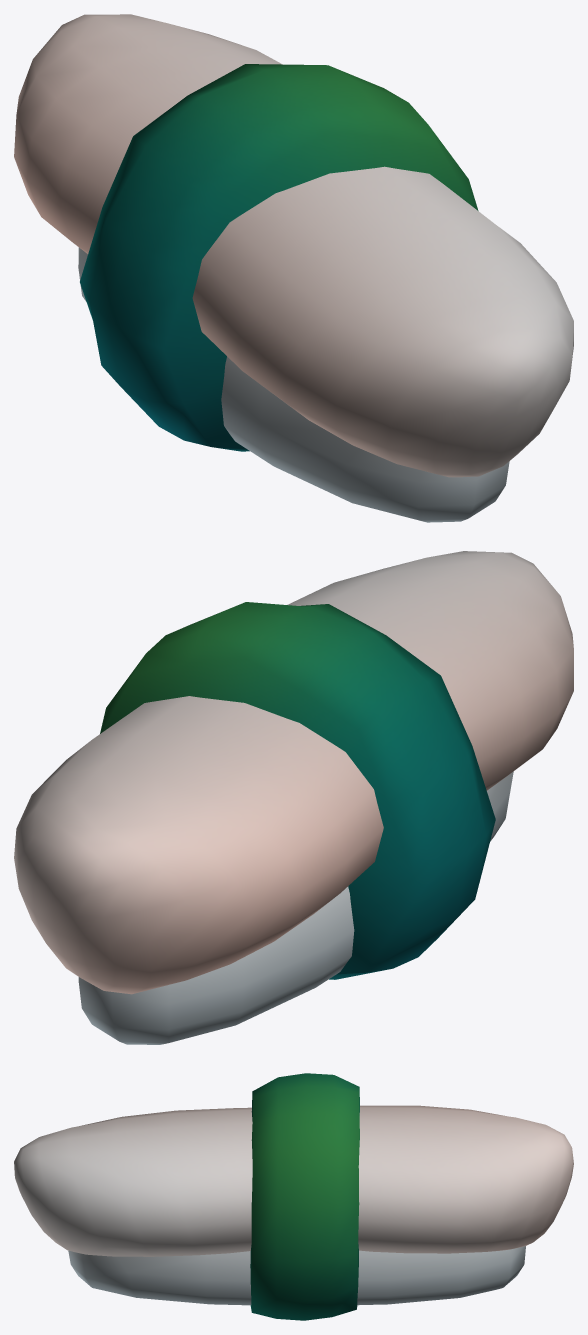
Rendered from sushi_005.fbx.
3 renders of one model, top to bottom at view 1: azimuth 30°, elevation 25°; view 2: azimuth 150°, elevation 25°; view 3: azimuth 270°, elevation 25°, orthographic. The views are drawn at different scales.
Visible parts, largest first — view 1: sushi_005; view 2: sushi_005; view 3: sushi_005.
Part boxes in pixels (<box>): sushi_005: <box>14,14,573,522</box>; sushi_005: <box>14,551,573,1044</box>; sushi_005: <box>14,1073,573,1320</box>.
Size of the model in its own units: 4.74 by 10.13 by 4.3.
